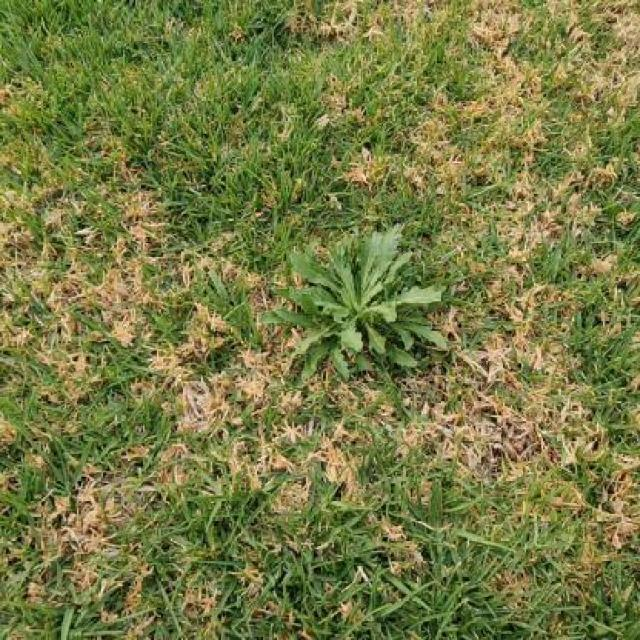weed: (268, 226, 448, 379)
